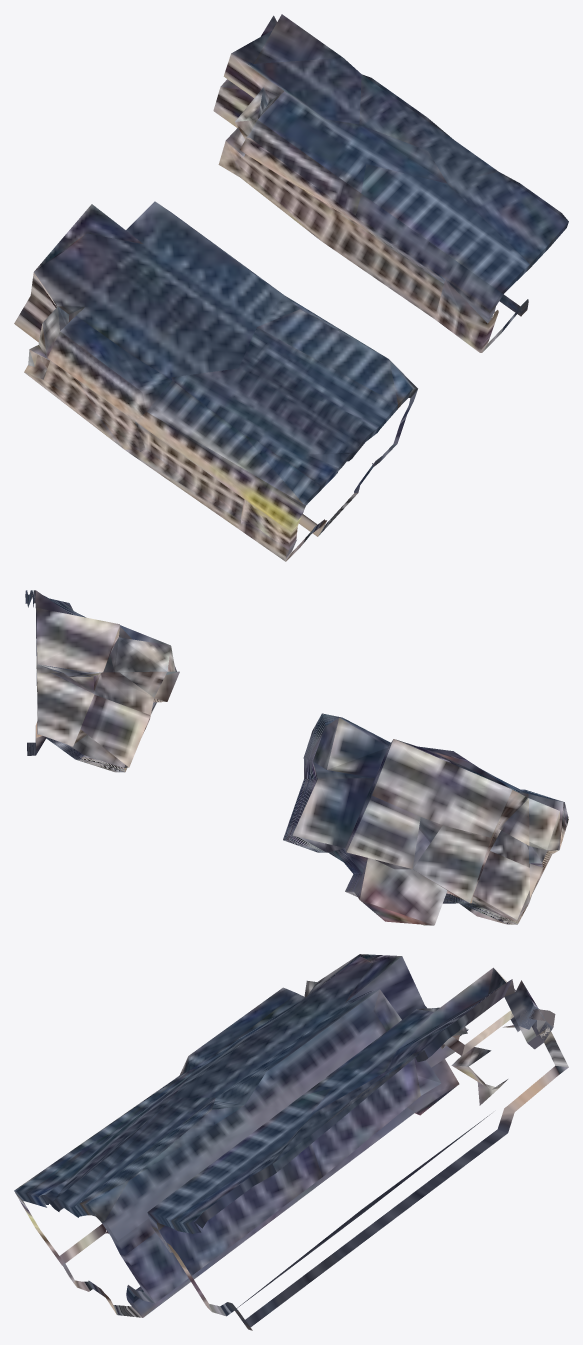
The picture shows the model from 3 angles, top to bottom: view 1: azimuth 30°, elevation 25°; view 2: azimuth 150°, elevation 25°; view 3: azimuth 270°, elevation 25°; orthographic projection. The views are drawn at different scales.
Bounding box in the file's own units: 97.08 × 70.29 × 85.67.
Materials: 1 (1 with a texture image).
